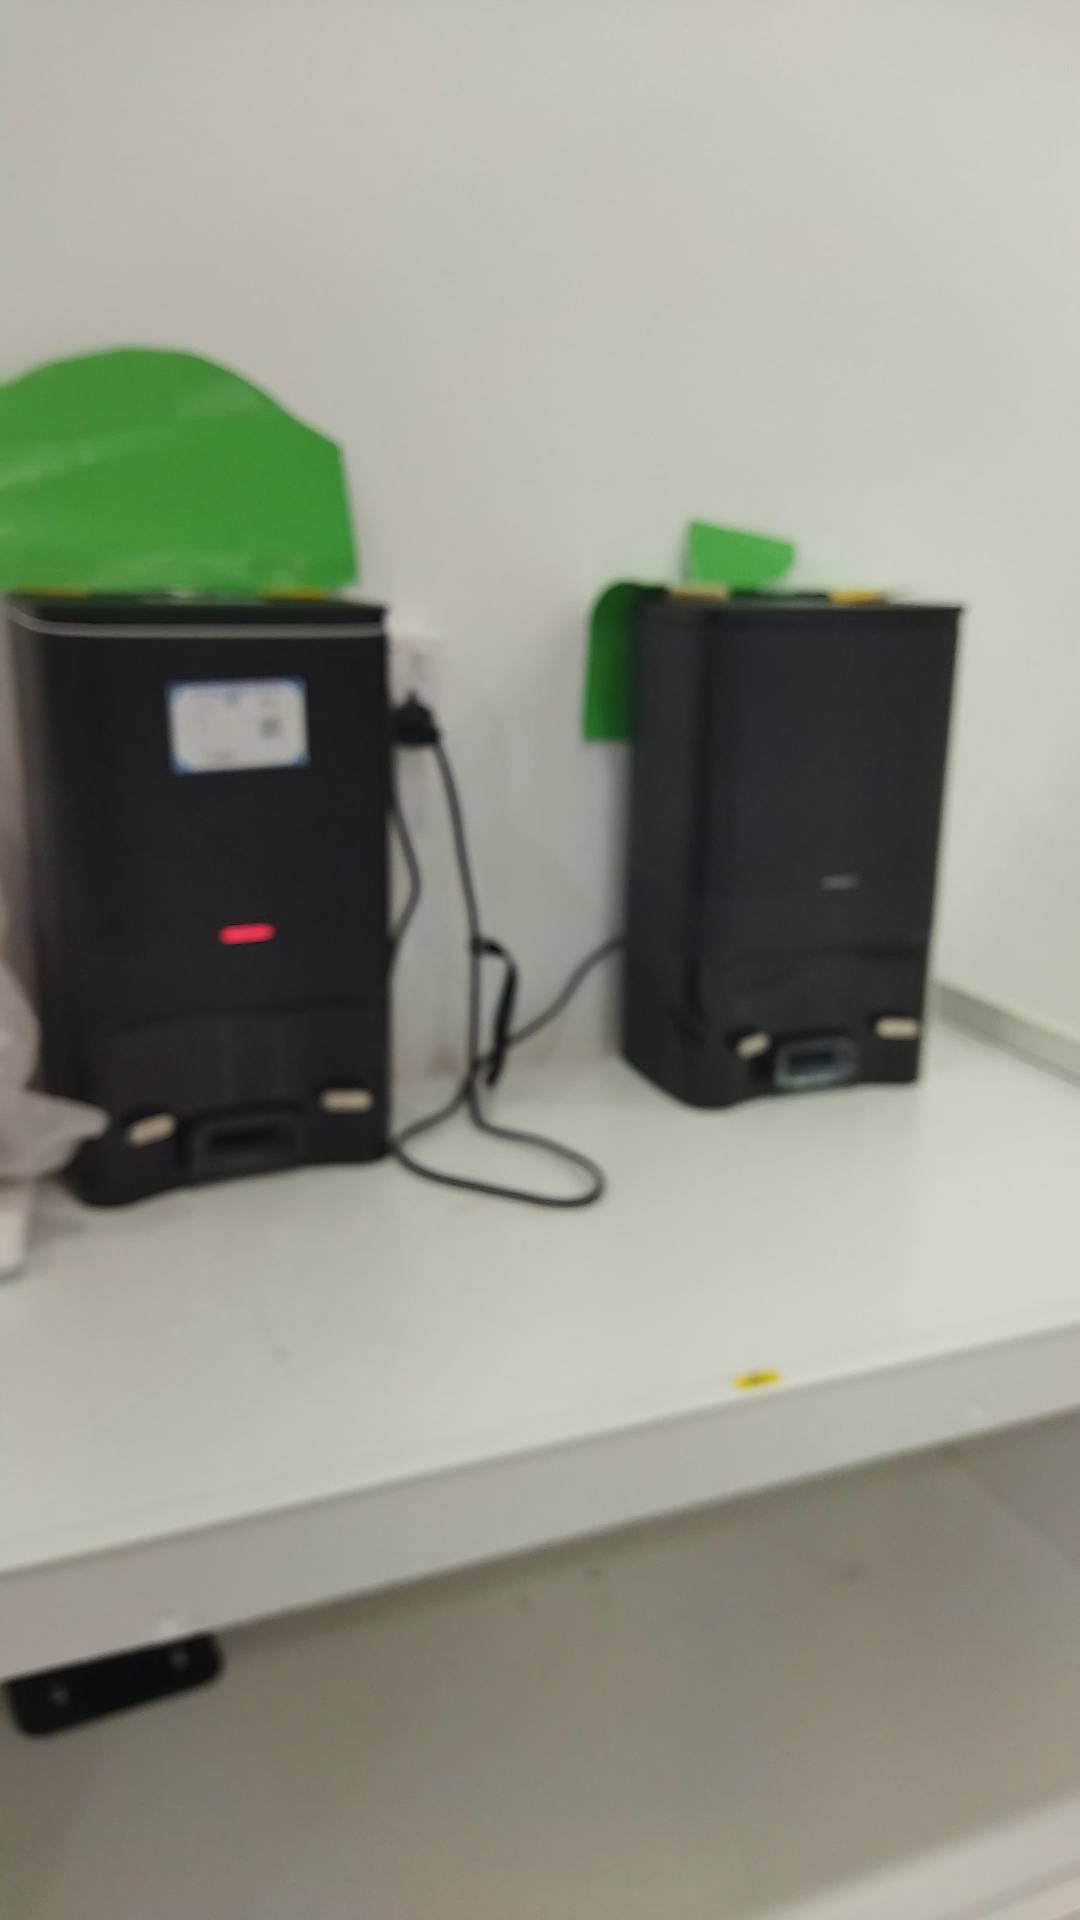dust collecting barrel: (1, 582, 396, 1207), (620, 587, 967, 1113)
